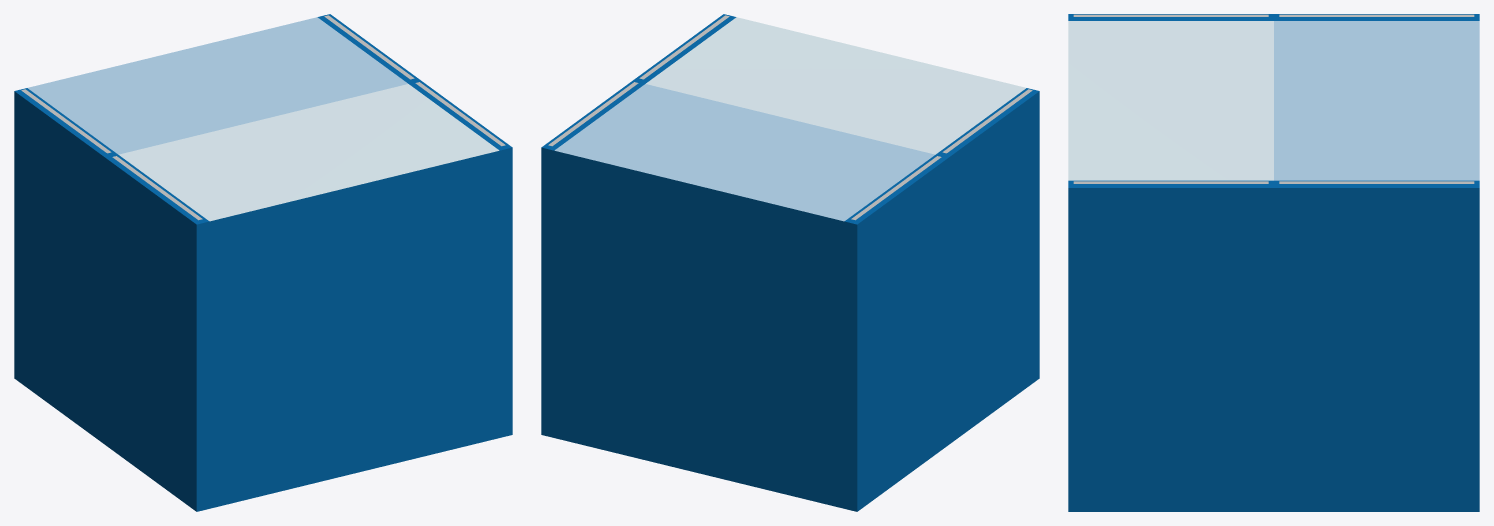
Rendered from W_Road_1.FBX.
3 views of the same model, side by side, from view 1: azimuth 30°, elevation 25°; view 2: azimuth 150°, elevation 25°; view 3: azimuth 270°, elevation 25° (orthographic). The views are drawn at different scales.
Parts seen in each view (by area): view 1: Road_004, Glow_004; view 2: Road_004, Glow_004; view 3: Road_004, Glow_004.
Boxes of the visible parts, x1,y1,x2,y2 form: Road_004: (14, 14, 512, 511); Glow_004: (21, 15, 505, 220); Road_004: (541, 14, 1039, 511); Glow_004: (548, 15, 1032, 220); Road_004: (1068, 14, 1479, 511); Glow_004: (1073, 14, 1474, 183).
Size of the model in its own units: 503 by 503 by 439.
